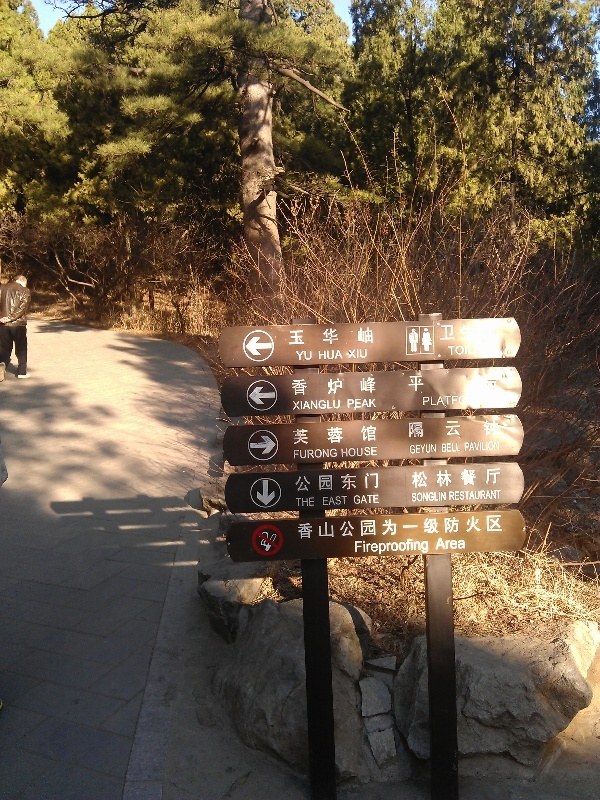text: (305, 513, 320, 540), (321, 513, 336, 540), (337, 513, 352, 540), (353, 513, 368, 540), (369, 513, 384, 540), (385, 513, 400, 540), (401, 513, 416, 540), (417, 513, 432, 540), (433, 513, 448, 540), (449, 513, 464, 540), (465, 513, 480, 540), (481, 513, 496, 540), (289, 326, 304, 348), (305, 326, 320, 348), (321, 326, 336, 348), (337, 326, 352, 348), (353, 326, 368, 348), (305, 376, 320, 398), (321, 376, 336, 398), (337, 376, 352, 398), (353, 376, 368, 398), (417, 418, 432, 440), (433, 418, 448, 440), (449, 418, 464, 440), (465, 418, 480, 440), (481, 418, 496, 440), (417, 467, 432, 489), (433, 467, 448, 489), (449, 467, 464, 489), (465, 467, 480, 489), (481, 467, 496, 489), (305, 425, 320, 446), (321, 425, 336, 446), (337, 425, 352, 446), (353, 425, 368, 446), (305, 472, 320, 493), (321, 472, 336, 493), (337, 472, 352, 493), (353, 472, 368, 493), (353, 537, 368, 558), (369, 537, 384, 558), (385, 537, 400, 558), (401, 537, 416, 558), (290, 376, 304, 398), (291, 425, 304, 446), (417, 537, 430, 558), (449, 536, 464, 552), (369, 472, 380, 493), (434, 536, 448, 552), (406, 418, 416, 440), (497, 513, 505, 540), (369, 376, 378, 398), (305, 399, 320, 412), (321, 399, 336, 412), (305, 448, 320, 461), (321, 448, 336, 461), (449, 489, 464, 502), (465, 489, 480, 502), (481, 489, 496, 502), (353, 446, 368, 459), (465, 440, 480, 453), (481, 440, 496, 453), (369, 425, 378, 446), (295, 472, 304, 493), (297, 513, 304, 540), (417, 443, 432, 455), (321, 349, 336, 361), (353, 398, 368, 410), (417, 491, 432, 503), (433, 491, 448, 503), (433, 395, 448, 406), (353, 349, 368, 360), (449, 346, 465, 356), (292, 399, 304, 412), (449, 442, 462, 454), (322, 496, 336, 507), (417, 375, 426, 392), (440, 324, 448, 342), (293, 448, 304, 461), (341, 446, 352, 459), (408, 375, 416, 392), (353, 495, 368, 504), (369, 326, 375, 348), (410, 467, 416, 489), (497, 467, 503, 489), (305, 496, 316, 508), (449, 324, 456, 342), (337, 496, 348, 507), (295, 350, 304, 363), (369, 446, 378, 459), (497, 418, 502, 440), (422, 395, 432, 406), (449, 395, 459, 406), (295, 496, 304, 508), (305, 350, 313, 363), (369, 495, 380, 504), (369, 398, 377, 410), (409, 443, 416, 455), (337, 349, 344, 361), (441, 442, 448, 454), (337, 399, 342, 412), (497, 489, 502, 502), (433, 443, 438, 455), (347, 398, 352, 410), (412, 491, 416, 503), (348, 349, 352, 360), (497, 440, 500, 453), (465, 536, 467, 552), (337, 448, 338, 461), (319, 349, 320, 361)
